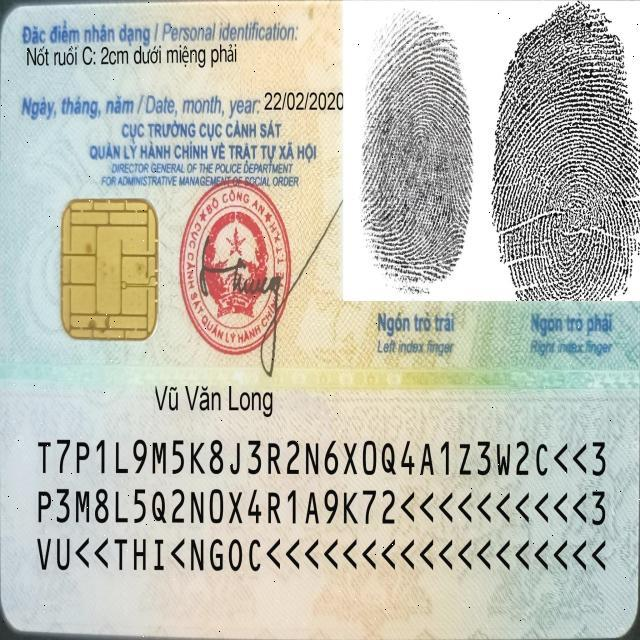features: (23, 38, 241, 76)
finger_print: (491, 6, 640, 360), (342, 0, 480, 363)
issue_date: (262, 86, 345, 117)
